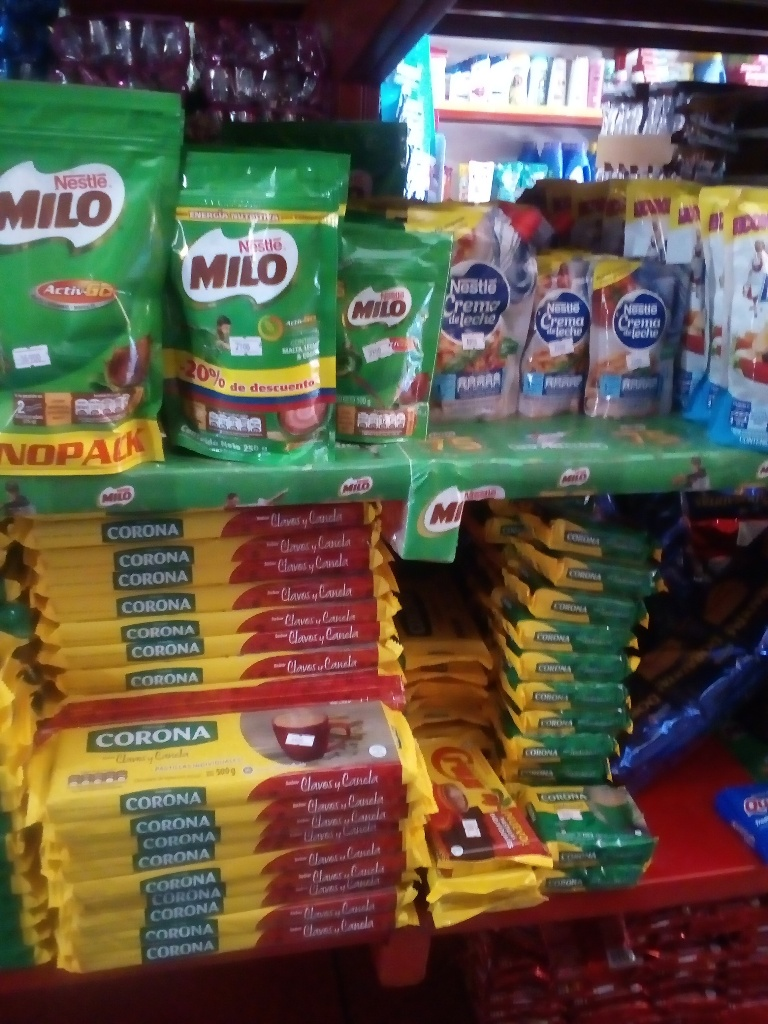COL0170203DYP10000: (327, 224, 454, 445)
